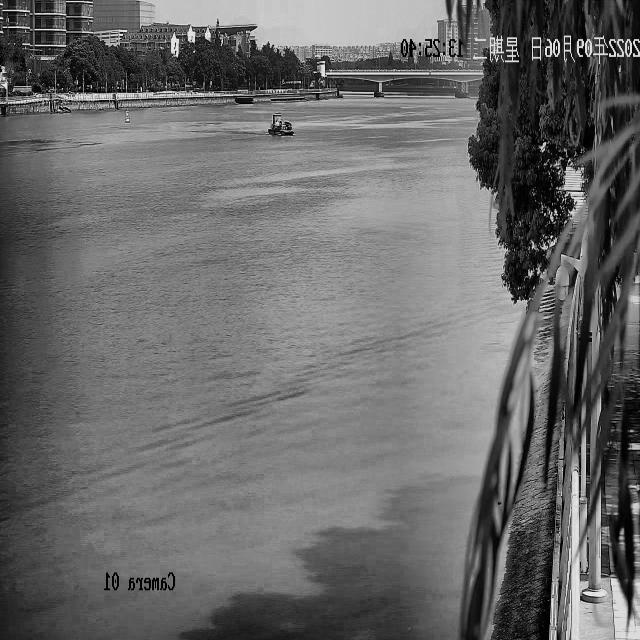ship: (268, 112, 294, 134)
